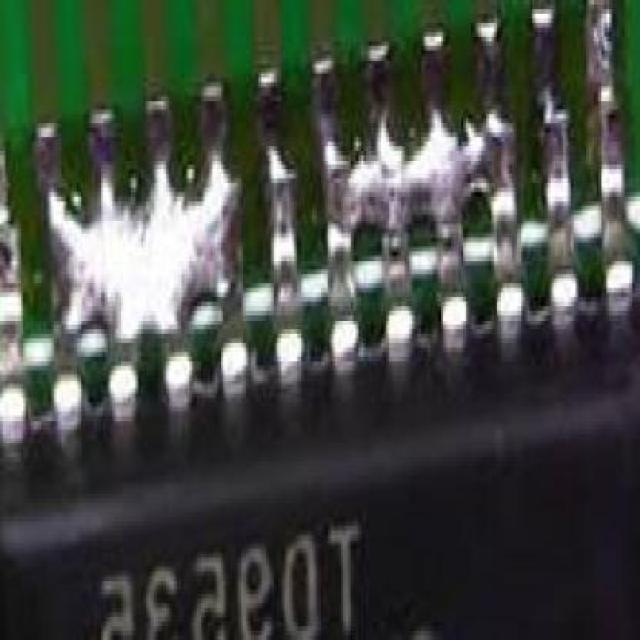Soldering shorted: (30, 164, 246, 330), (312, 110, 512, 224)
